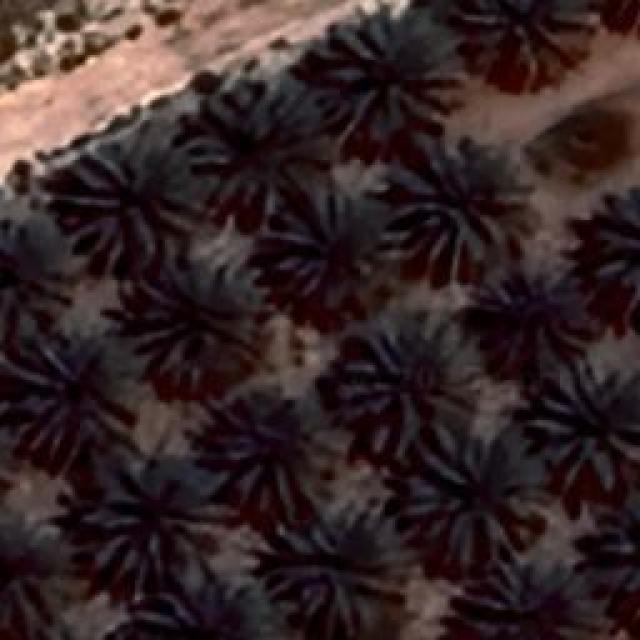PalmTree: (118, 99, 544, 321), (51, 16, 615, 99), (337, 320, 485, 455), (382, 142, 520, 280), (405, 438, 545, 568), (58, 144, 198, 268), (315, 18, 465, 132), (128, 260, 262, 385), (270, 510, 400, 632), (80, 460, 212, 578), (9, 332, 132, 458), (210, 392, 340, 510), (530, 360, 638, 492), (452, 0, 587, 92), (185, 90, 293, 202), (106, 575, 286, 640), (450, 565, 598, 640), (270, 190, 370, 295), (0, 510, 68, 632), (0, 218, 68, 330), (587, 512, 640, 629), (592, 182, 638, 296), (0, 405, 11, 519)
